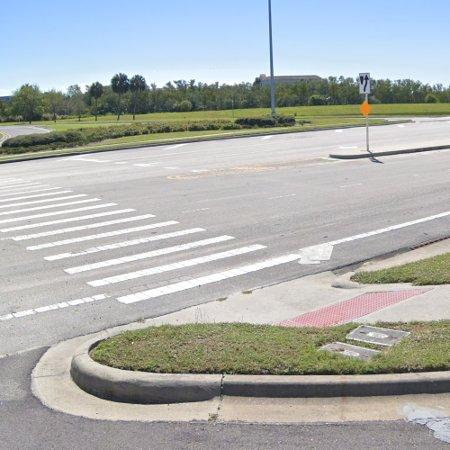crosswalks: (0, 176, 304, 305)
